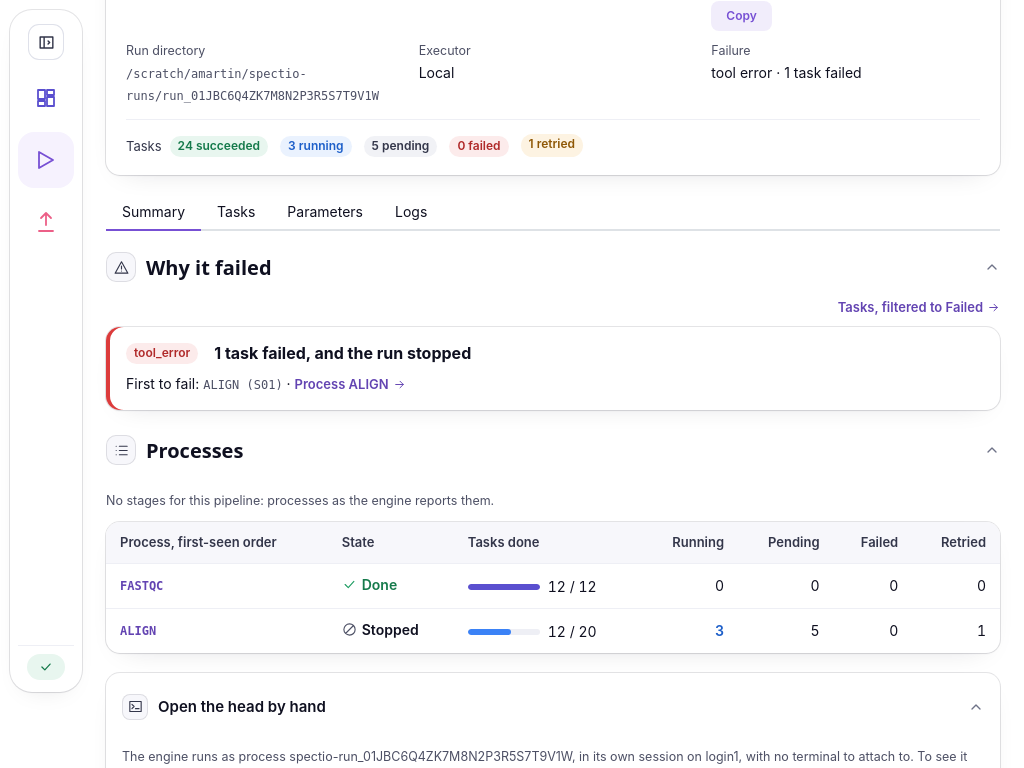
Test: P3-parD: Why it failed names the task that failed first; its process opens its detail
(page scrolled)
Expected: the text "First to fail: ALIGN (S01) · Process ALIGN" is shown, [126,372,406,396]
Click the button with aria-label "Open process NFCORE:RNASEQ:ALIGN" at [350, 384], box [295,372,406,396]
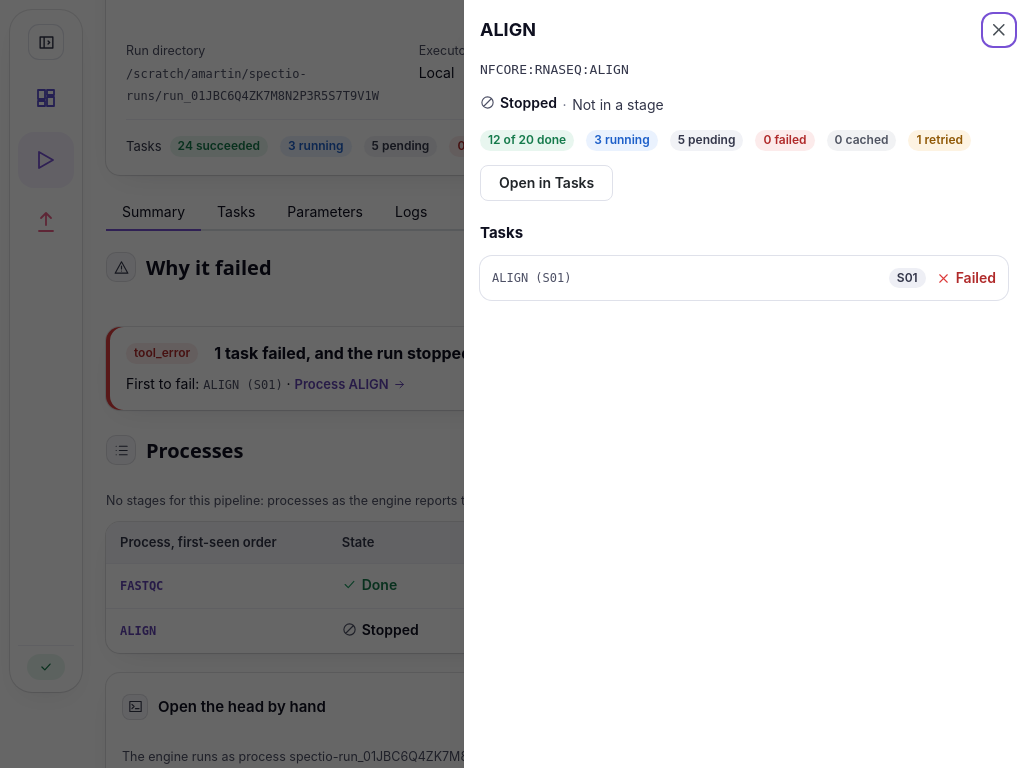
Expected: the dialog "ALIGN" is shown, [464,0,1023,767]
